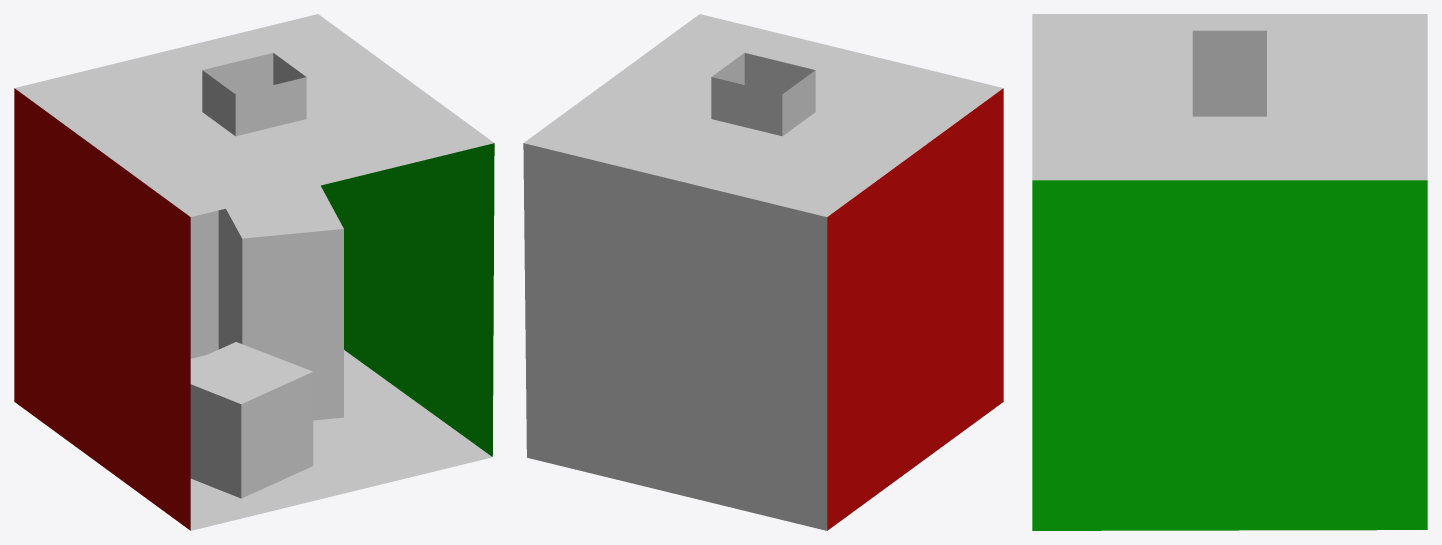
File: cornellbox_phong.DAE
3 views of the same model, side by side, from view 1: azimuth 30°, elevation 25°; view 2: azimuth 150°, elevation 25°; view 3: azimuth 270°, elevation 25° (orthographic). The views are drawn at different scales.
Parts seen in each view (by area): view 1: object2, object4, object3, object5, Box001; view 2: object2, object4; view 3: object3, object2.
Boxes of the visible parts, x1,y1,x2,y2 form: object2: [14, 14, 493, 530]; object4: [14, 88, 190, 530]; object3: [321, 143, 494, 456]; object5: [218, 185, 343, 420]; Box001: [190, 342, 313, 498]; object2: [523, 14, 1003, 530]; object4: [827, 88, 1003, 530]; object3: [1032, 180, 1427, 530]; object2: [1032, 14, 1427, 180].
Size of the model in its own units: 556 by 559 by 622.
